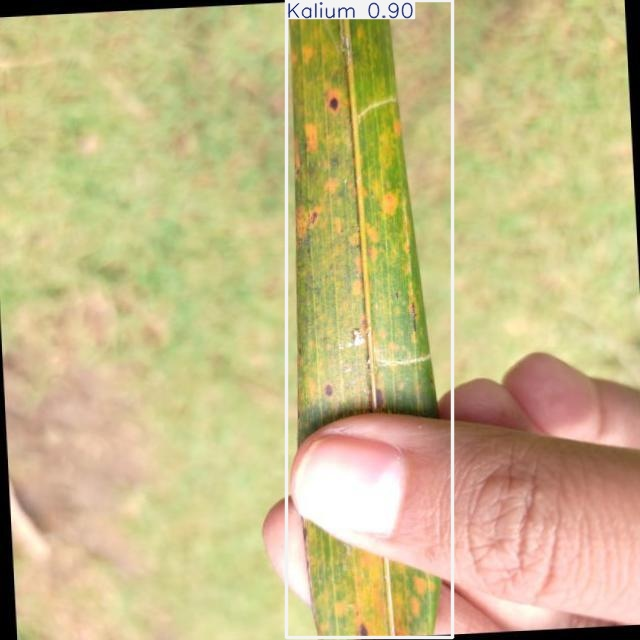Kalium: (287, 1, 453, 638)
